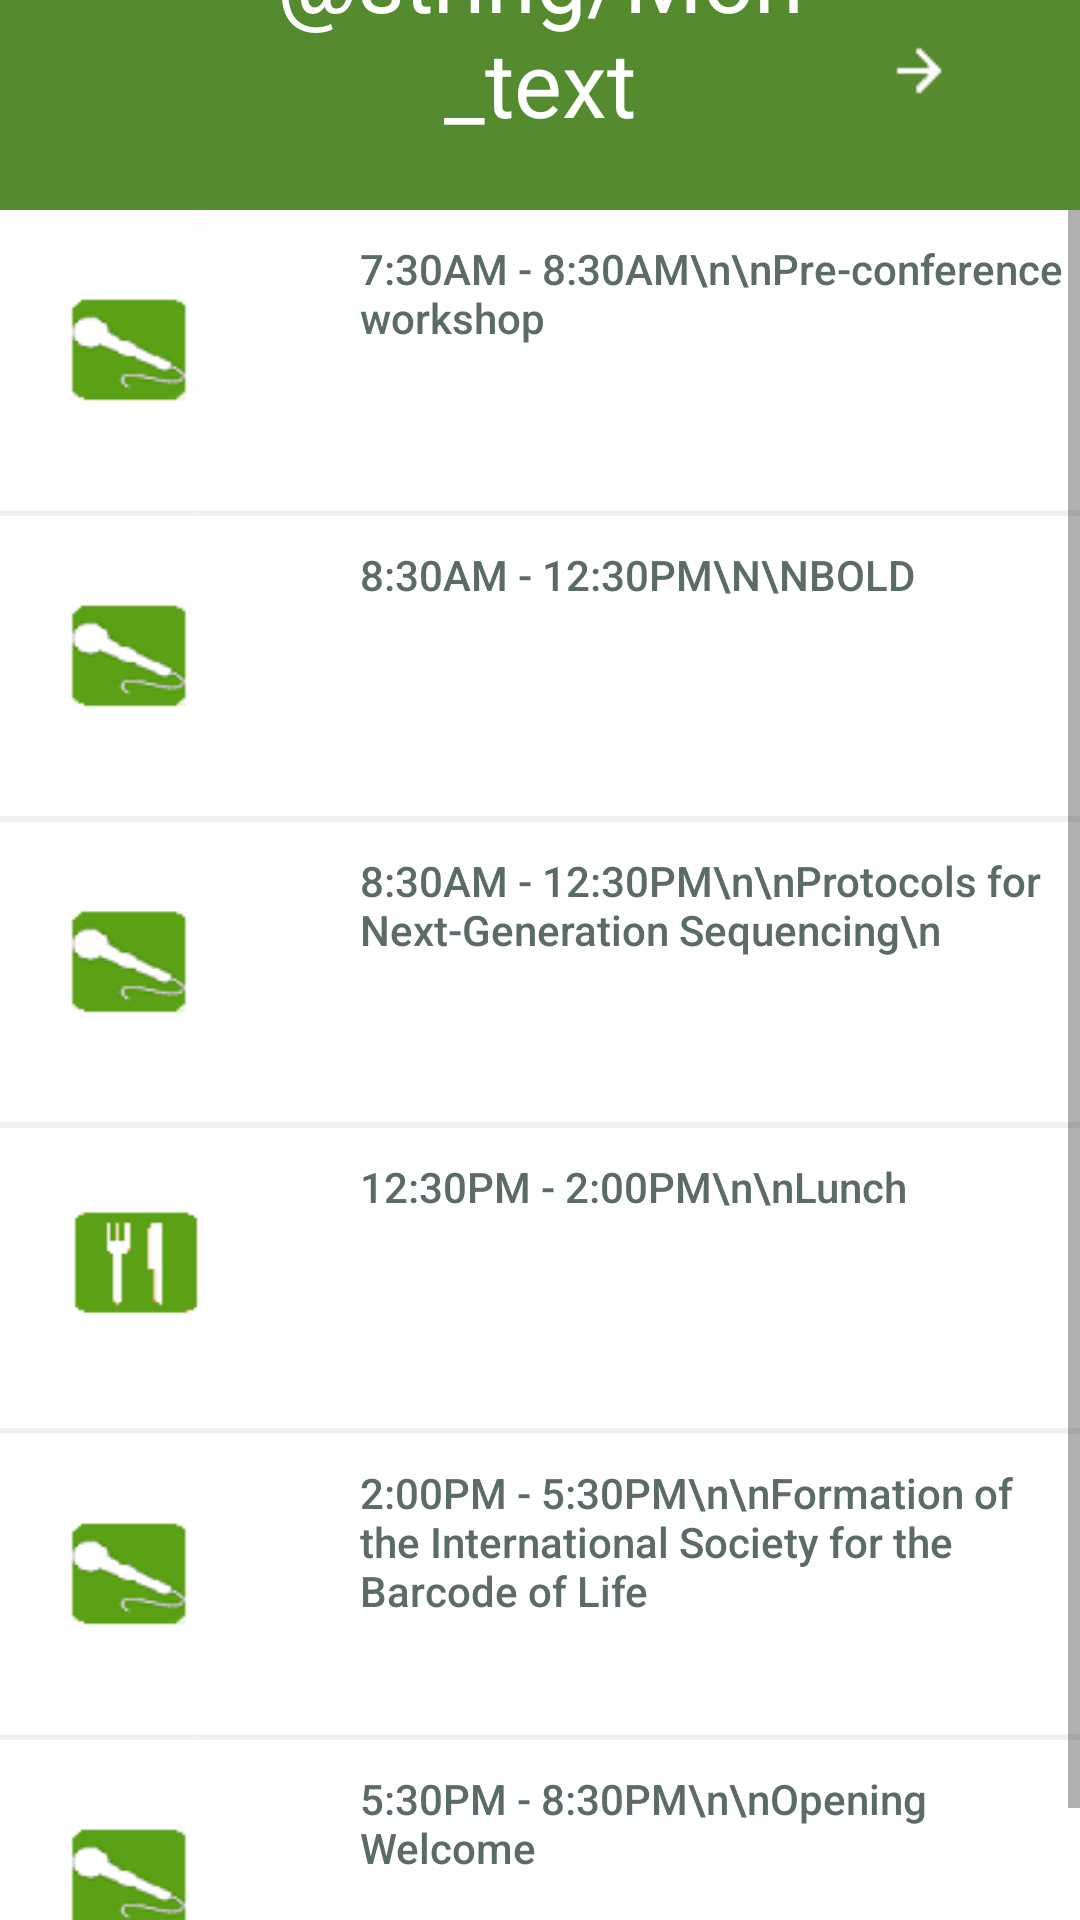

Named icons in this screenshot (1080px x 1920px) and their centers, (x=x, y=y):
right: (x=919, y=71)
